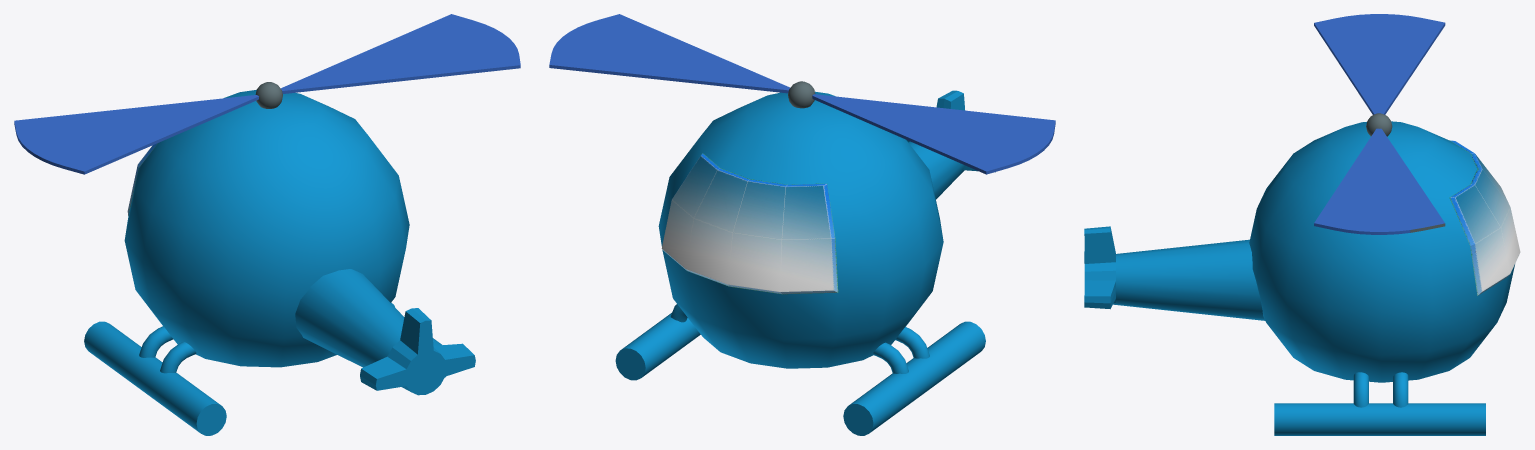
File: Fly.FBX
3 renders of one model, left to right at view 1: azimuth 30°, elevation 25°; view 2: azimuth 150°, elevation 25°; view 3: azimuth 270°, elevation 25°, orthographic. The views are drawn at different scales.
Parts seen in each view (by area): view 1: Sphere001, Sphere002; view 2: Sphere001, Sphere002; view 3: Sphere001, Sphere002.
Part boxes in pixels (bbox=[...]): Sphere001: bbox=[84, 90, 475, 435]; Sphere002: bbox=[14, 14, 520, 174]; Sphere001: bbox=[615, 90, 995, 435]; Sphere002: bbox=[549, 14, 1055, 174]; Sphere001: bbox=[1084, 121, 1520, 435]; Sphere002: bbox=[1314, 14, 1445, 234].
Size of the model in its own units: 246 by 140 by 208.
3 materials, 1 textured.
